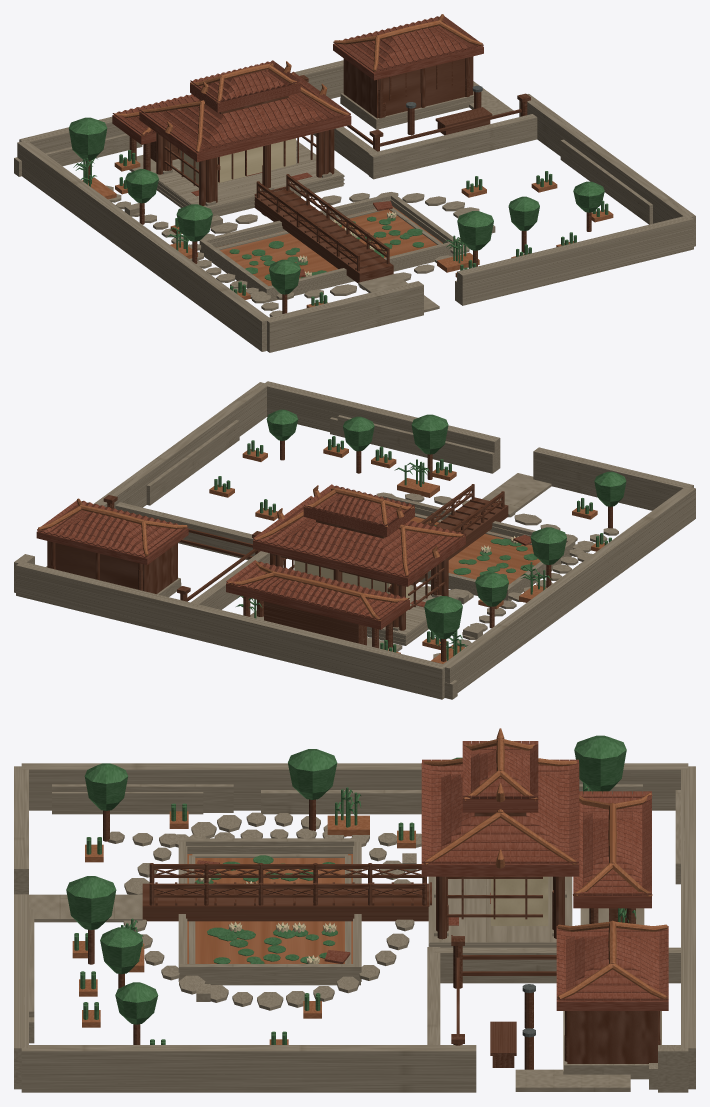
3 views of the same model, one above another, from view 1: azimuth 30°, elevation 25°; view 2: azimuth 150°, elevation 25°; view 3: azimuth 270°, elevation 25° (orthographic). The views are drawn at different scales.
Parts seen in each view (by area): view 1: garrison_part_0001.001, garrison_part_0004.001, garrison_part_0005.001, garrison_part_0002.001, garrison_part_0000.001, garrison_part_0006.001, garrison_part_0003.001; view 2: garrison_part_0001.001, garrison_part_0004.001, garrison_part_0005.001, garrison_part_0002.001, garrison_part_0003.001, garrison_part_0000.001, garrison_part_0006.001; view 3: garrison_part_0001.001, garrison_part_0004.001, garrison_part_0005.001, garrison_part_0002.001, garrison_part_0000.001, garrison_part_0006.001, garrison_part_0003.001.
Boxes of the visible parts, bbox=[...] form: garrison_part_0001.001: bbox=[17, 56, 695, 352]; garrison_part_0004.001: bbox=[112, 14, 483, 162]; garrison_part_0005.001: bbox=[68, 117, 613, 316]; garrison_part_0002.001: bbox=[14, 98, 652, 301]; garrison_part_0000.001: bbox=[123, 81, 513, 312]; garrison_part_0006.001: bbox=[254, 75, 530, 271]; garrison_part_0003.001: bbox=[150, 78, 652, 300]; garrison_part_0001.001: bbox=[14, 381, 695, 699]; garrison_part_0004.001: bbox=[36, 484, 465, 629]; garrison_part_0005.001: bbox=[209, 409, 626, 663]; garrison_part_0002.001: bbox=[162, 417, 575, 699]; garrison_part_0003.001: bbox=[50, 415, 494, 634]; garrison_part_0000.001: bbox=[46, 473, 571, 651]; garrison_part_0006.001: bbox=[103, 484, 504, 601]; garrison_part_0001.001: bbox=[14, 763, 695, 1092]; garrison_part_0004.001: bbox=[421, 728, 668, 1010]; garrison_part_0005.001: bbox=[66, 735, 636, 1044]; garrison_part_0002.001: bbox=[29, 790, 680, 1089]; garrison_part_0000.001: bbox=[29, 876, 644, 1091]; garrison_part_0006.001: bbox=[149, 863, 556, 1069]; garrison_part_0003.001: bbox=[29, 784, 660, 1079].
Size of the model in its own units: 1091 by 296 by 1084.
